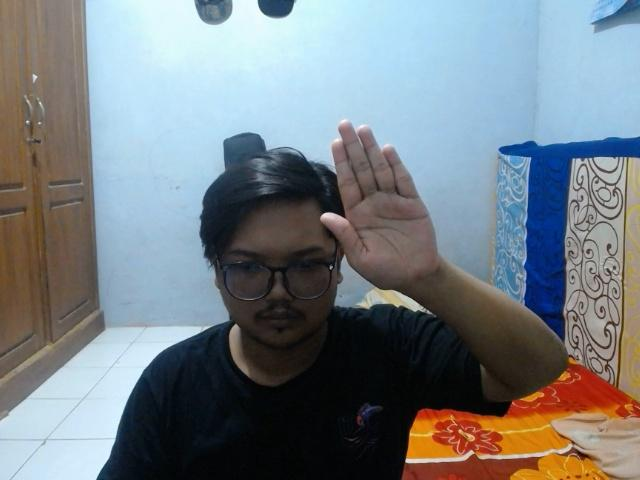Release: (317, 116, 441, 294)
